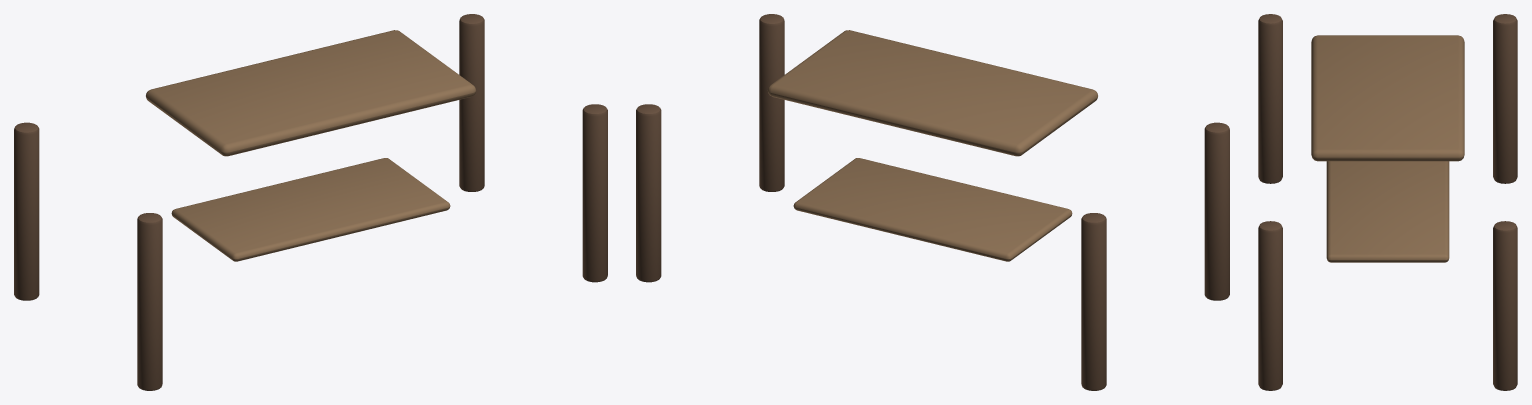
File: coffee_table.glb
3 renders of one model, left to right at view 1: azimuth 30°, elevation 25°; view 2: azimuth 150°, elevation 25°; view 3: azimuth 270°, elevation 25°, orthographic. The views are drawn at different scales.
Parts seen in each view (by area): view 1: top, shelf, leg.001, leg.002, leg, leg.003; view 2: top, shelf, leg, leg.003, leg.001, leg.002; view 3: top, shelf, leg, leg.001, leg.002, leg.003.
Part boxes in pixels (x1,y1,x2,y2): top: [146, 30, 476, 156]; shelf: [171, 158, 450, 261]; leg.001: [14, 122, 39, 300]; leg.002: [582, 104, 607, 282]; leg: [137, 213, 162, 390]; leg.003: [459, 14, 484, 191]; top: [767, 30, 1097, 156]; shelf: [793, 158, 1072, 261]; leg: [1204, 122, 1229, 300]; leg.003: [636, 104, 661, 282]; leg.001: [1081, 213, 1106, 390]; leg.002: [759, 14, 784, 191]; top: [1311, 35, 1464, 161]; shelf: [1326, 161, 1449, 262]; leg: [1258, 14, 1282, 183]; leg.001: [1493, 14, 1517, 183]; leg.002: [1258, 221, 1282, 390]; leg.003: [1493, 221, 1517, 390].
Size of the model in its own units: 1.01 by 0.4125 by 0.508.
